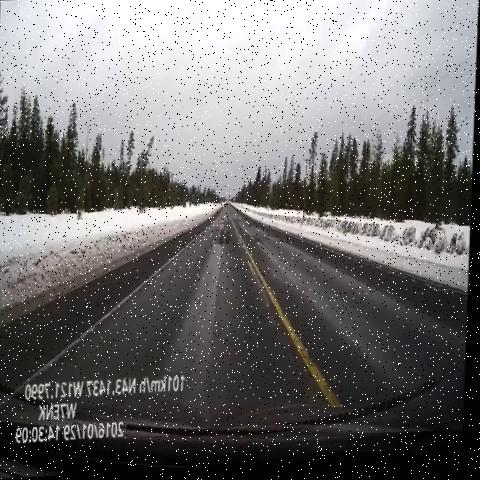pothole: (212, 208, 239, 258), (241, 230, 267, 258), (232, 215, 249, 234)
